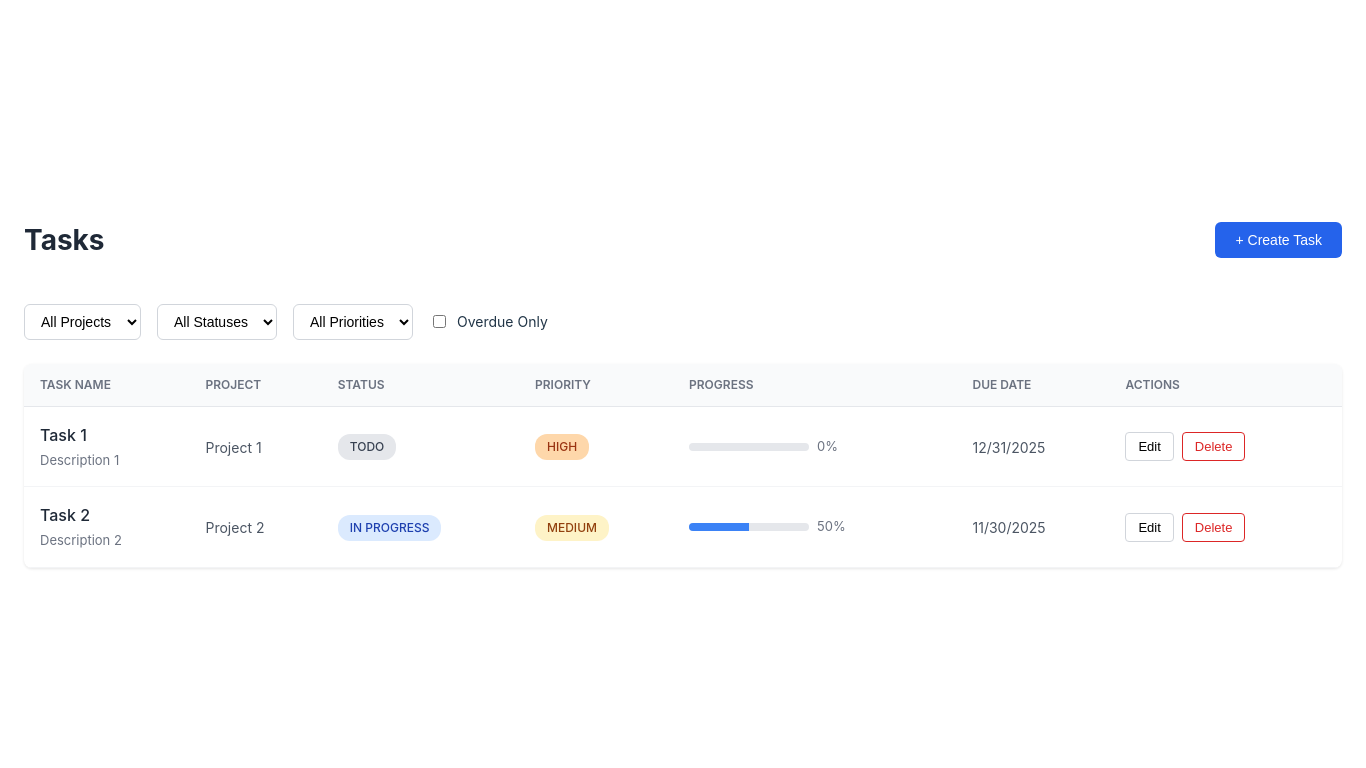
Scenario: TasksPage Integration Tests › Create Task Workflow › displays error when create fails
Expected: the text "Task 1" is shown, 40,425 -> 87,445
// Open modal and fill form
Click the button "+ Create Task". click: (1279, 240)
box: 1216,222 -> 1342,258
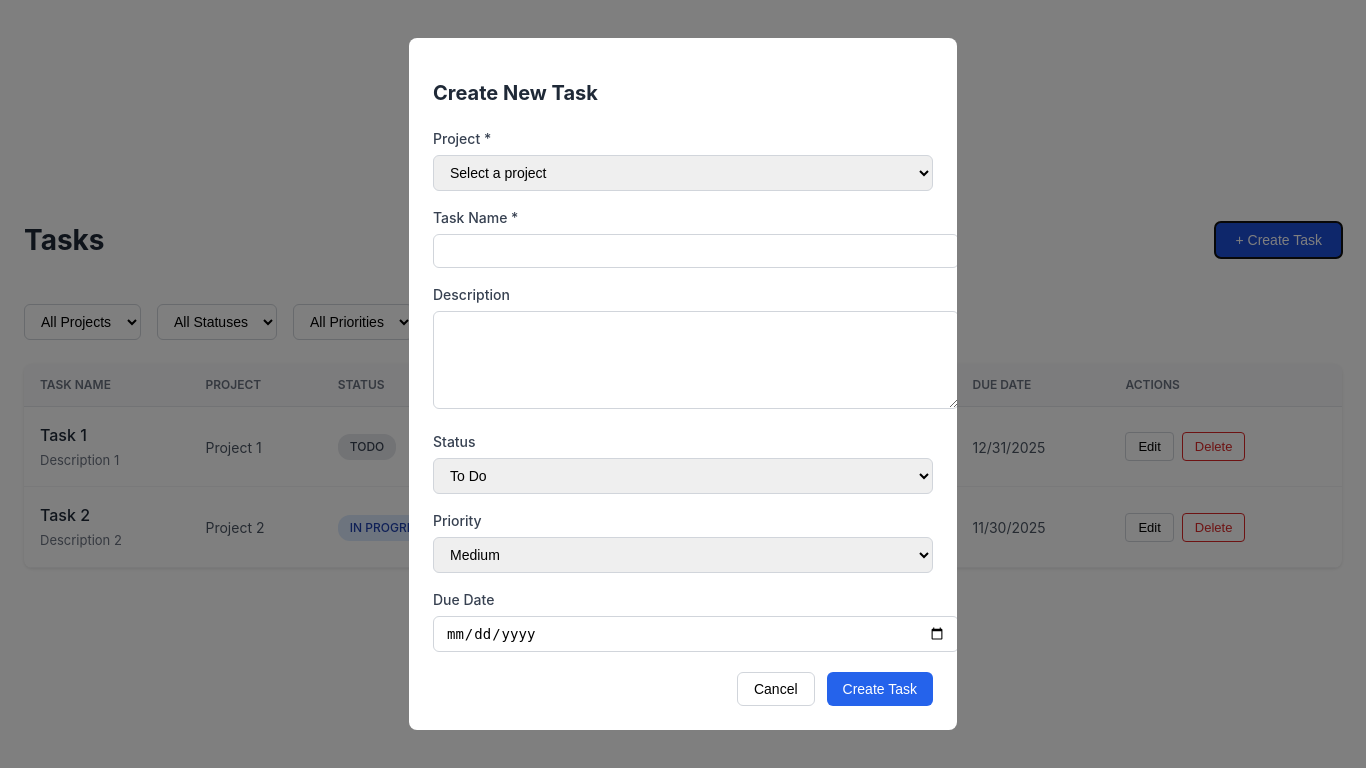
Expected: the dropdown labelled "Project *" is shown
Select "Project 1" in the dropdown labelled "Project *". click: (683, 173)
box: 433,155 -> 933,191
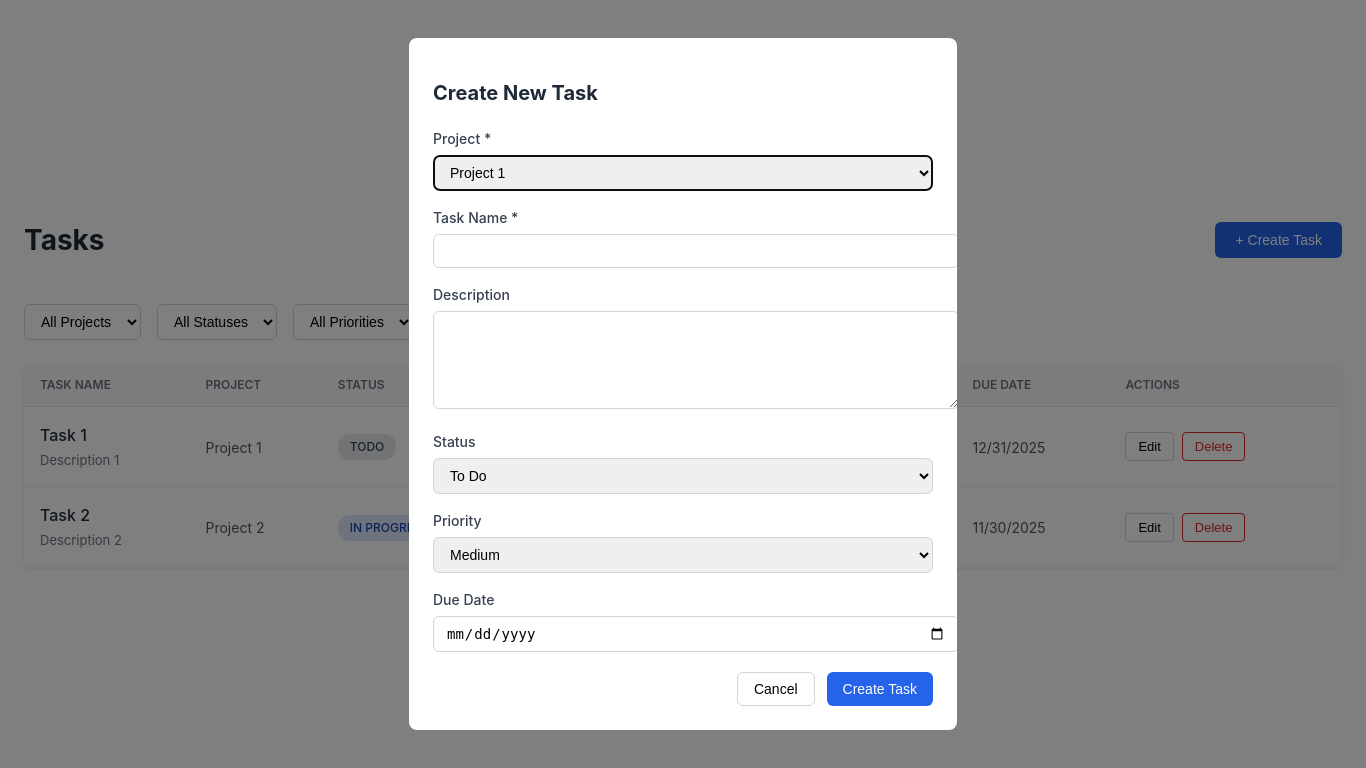
Type "New Task" into the field labelled "Task Name *". click: (696, 251)
box: 433,234 -> 959,268
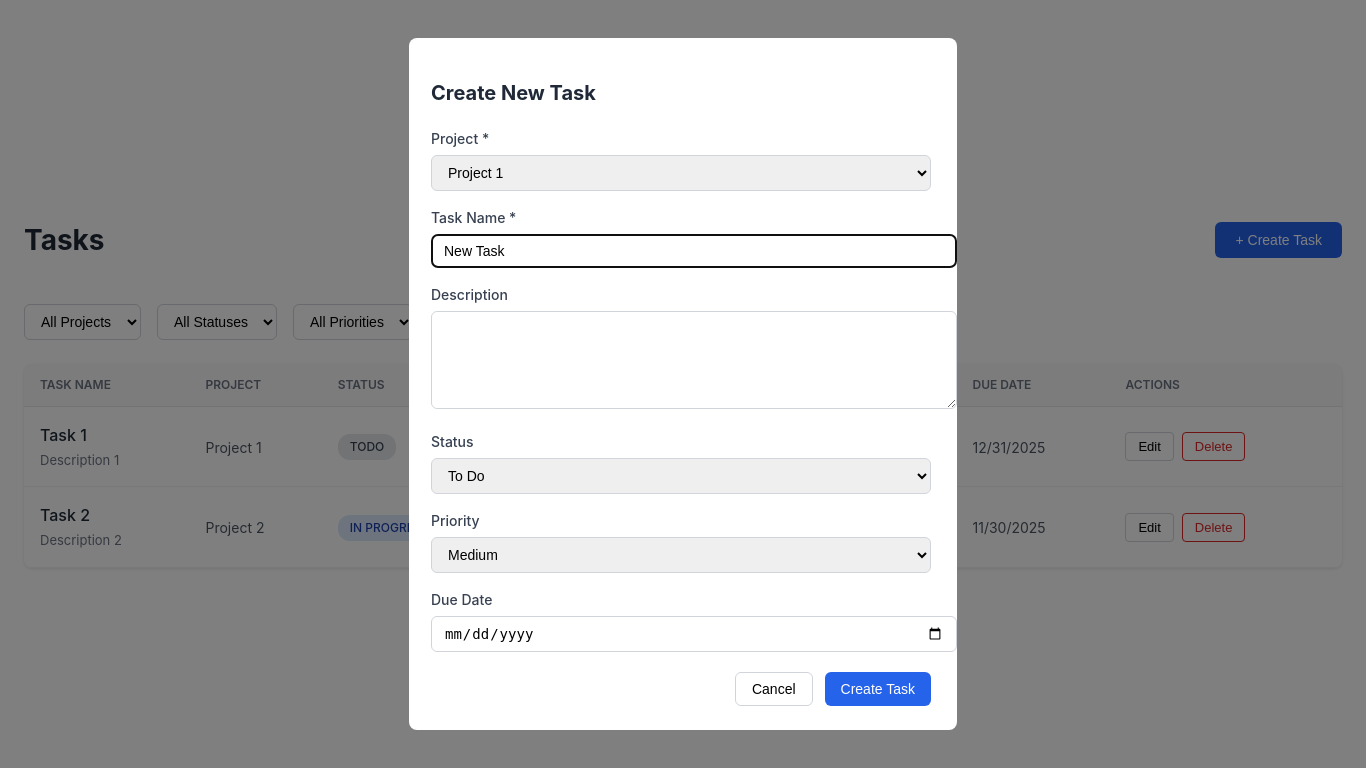
Click the button "Create Task". click: (878, 689)
box: 824,672 -> 931,706
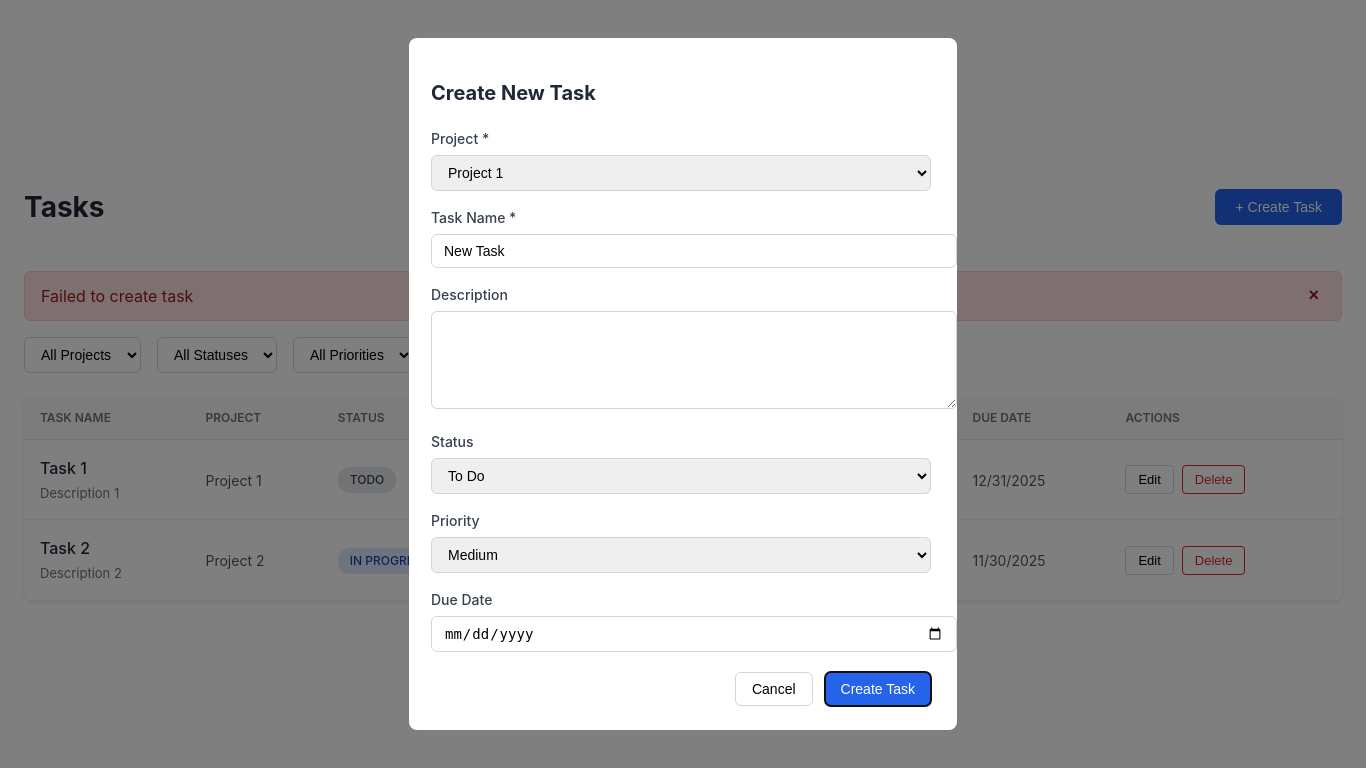
Expected: the text "Failed to create task" is shown, 41,284 -> 193,308
